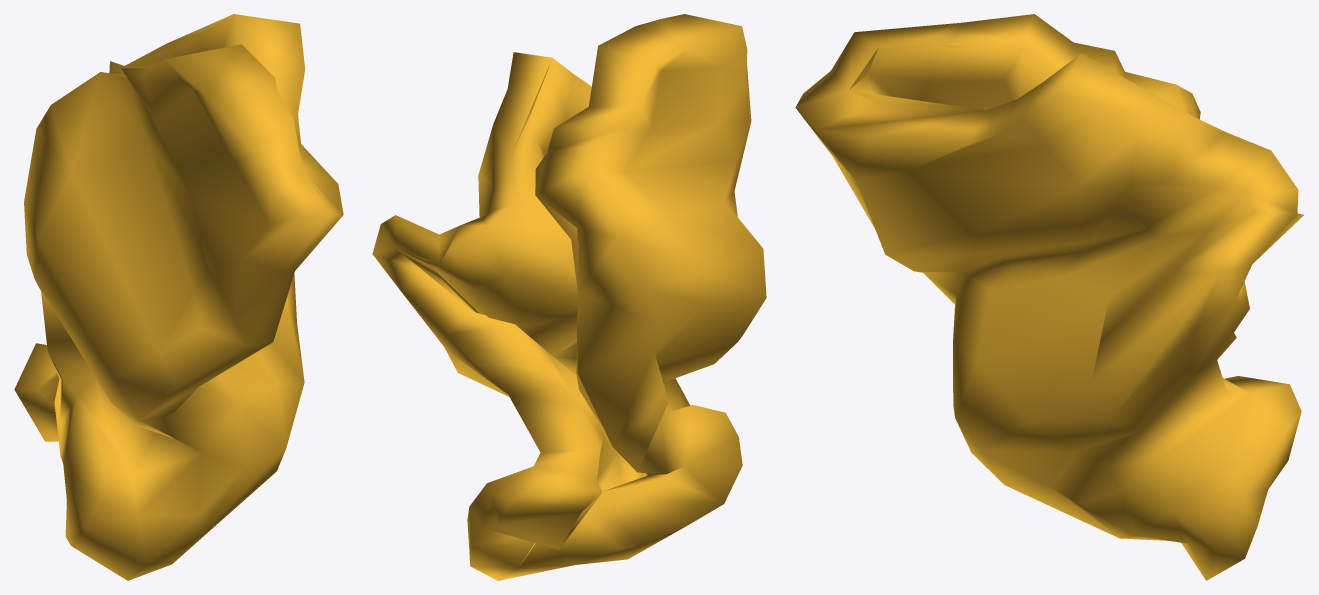
File: nervoso-transverse-occipital-sulcus-r.glb
3 views of the same model, side by side, from view 1: azimuth 30°, elevation 25°; view 2: azimuth 150°, elevation 25°; view 3: azimuth 270°, elevation 25° (orthographic). The views are drawn at different scales.
Visible parts, largest first — view 1: Transverse occipital sulcus.r; view 2: Transverse occipital sulcus.r; view 3: Transverse occipital sulcus.r.
Boxes of the visible parts, box(x1,y1,x2,y2) form: Transverse occipital sulcus.r: box(14, 14, 343, 580); Transverse occipital sulcus.r: box(372, 14, 766, 580); Transverse occipital sulcus.r: box(795, 14, 1303, 580).
Bounding box in the file's own units: 0.0172 × 0.0288 × 0.0252.
